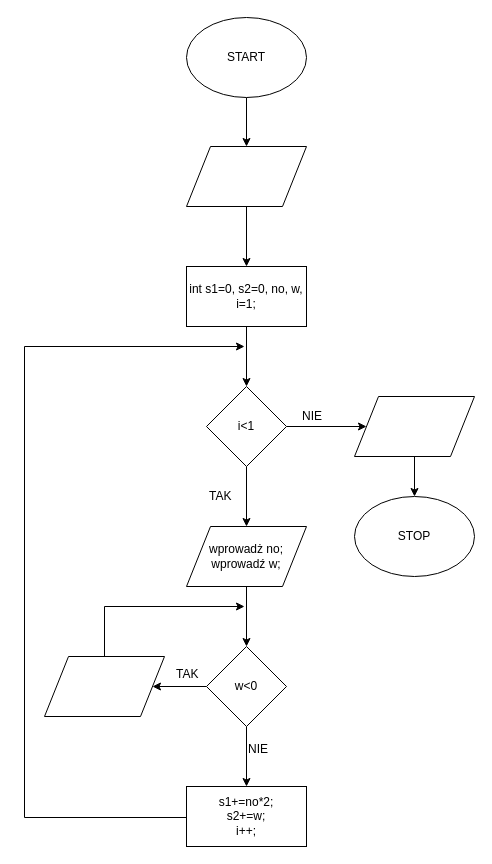
The diagram is 492 pixels wide and 864 high, and some of its shapes have lost their labels. The centre of each missing label's shape, as x and y in pixels:
"int n wprowadź n" goes at [246,176].
"wprowadź w;" goes at [104,686].
"wypisz (double) s1/s2;" goes at [414,426].
